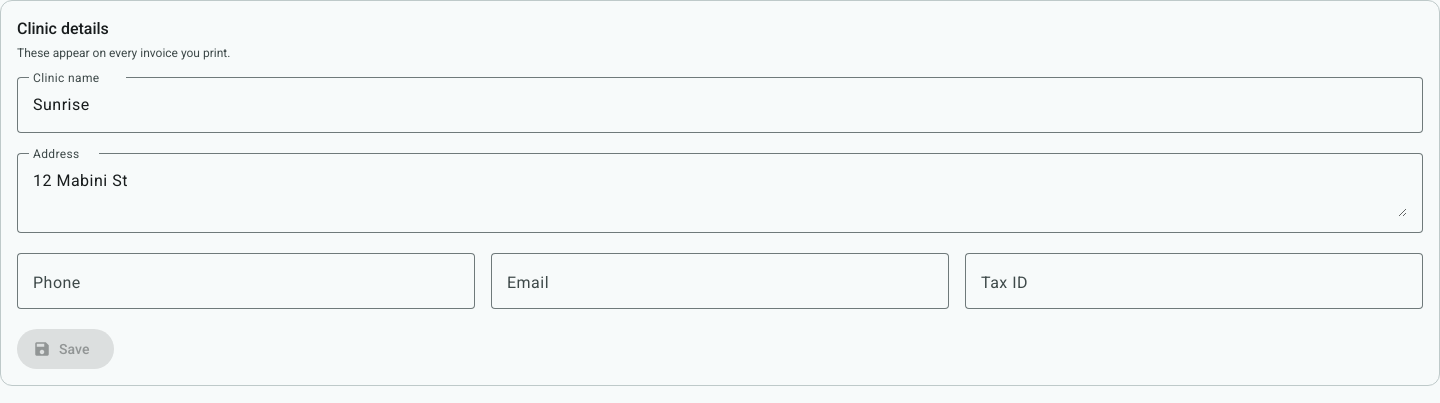
Test: ClinicProfileComponent › surfaces the edge function error body
Replace the text in the field labelled "Clinic name" with "Nope": coordinates (720, 105) [33,93,1407,117]
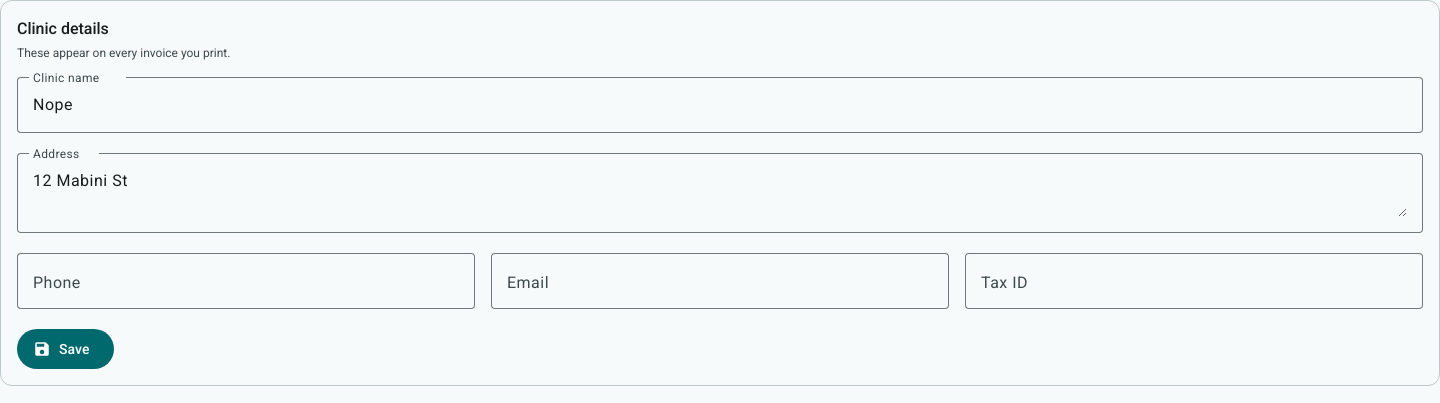
Click the button "Save": coordinates (65, 349) [17,329,114,369]
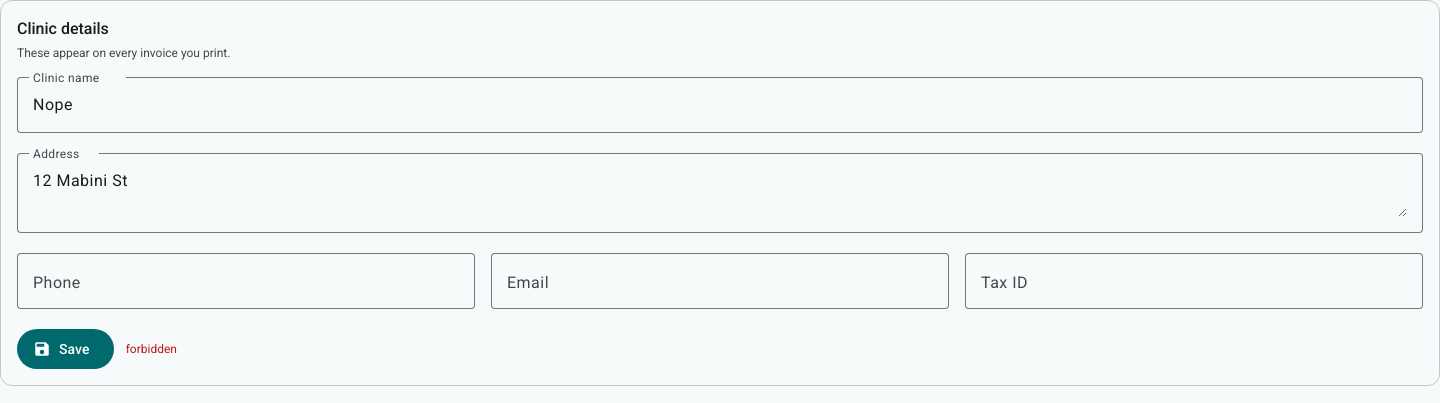
Result: the text "forbidden" is shown at [126,341,177,357]
